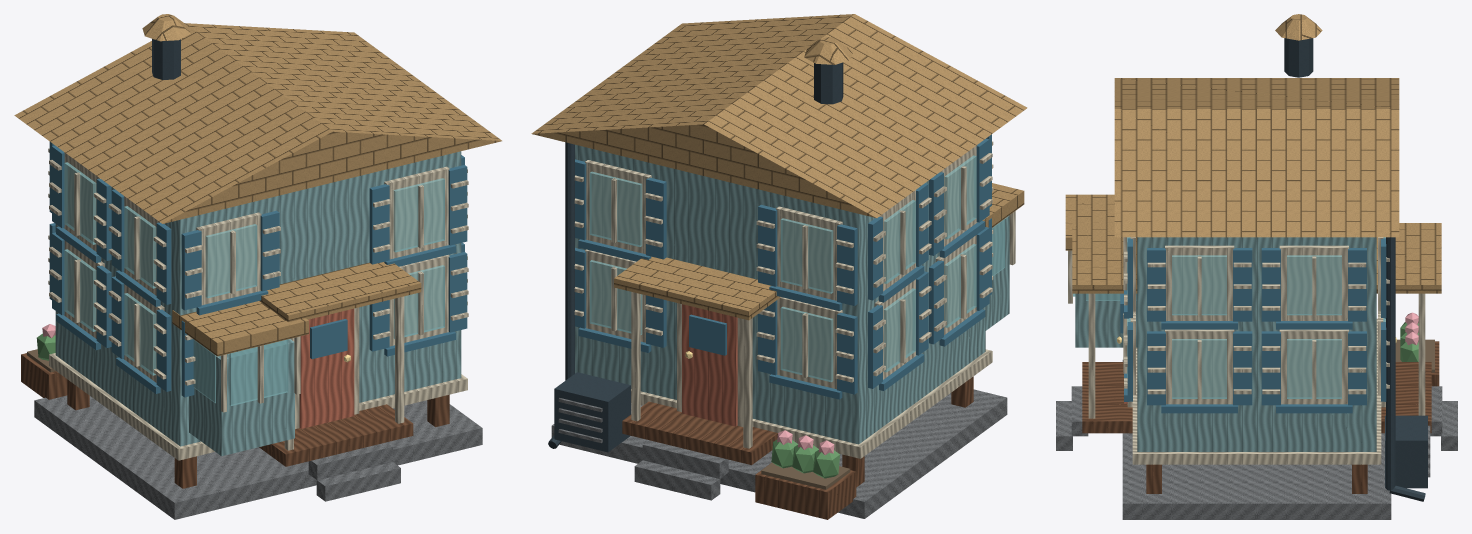
The model's file is house_beach_lv2_bay.glb.
3 renders of one model, left to right at view 1: azimuth 30°, elevation 25°; view 2: azimuth 150°, elevation 25°; view 3: azimuth 270°, elevation 25°, orthographic. The views are drawn at different scales.
Parts seen in each view (by area): view 1: gable_roof, walls, foundation, bay_base, front_porch_canopy, front_door, front_deck, bay_cap, front_window_frame.002, front_window_frame.003, floor_trim, front_window_glass.002 (+41 smaller); view 2: gable_roof, walls, foundation, back_porch_canopy, back_door, back_deck, back_ac_unit, back_window_frame.003, back_window_frame.002, back_window_frame, floor_trim, back_window_glass.002 (+47 smaller); view 3: gable_roof, walls, foundation, right_window_frame, right_window_frame.001, right_window_frame.002, right_window_frame.003, floor_trim, front_porch_canopy, back_porch_canopy, right_window_glass.002, right_window_glass.003 (+34 smaller).
Boxes of the visible parts, x1=… form: gable_roof: x1=14, y1=23, x2=501, y2=223; walls: x1=55, y1=151, x2=461, y2=446; foundation: x1=34, y1=395, x2=482, y2=519; bay_base: x1=189, y1=339, x2=294, y2=456; front_porch_canopy: x1=259, y1=262, x2=421, y2=322; front_door: x1=299, y1=308, x2=354, y2=428; front_deck: x1=259, y1=404, x2=413, y2=466; bay_cap: x1=172, y1=301, x2=308, y2=356; front_window_frame.002: x1=196, y1=212, x2=261, y2=305; front_window_frame.003: x1=384, y1=166, x2=449, y2=259; floor_trim: x1=49, y1=353, x2=467, y2=460; front_window_glass.002: x1=205, y1=224, x2=257, y2=298; gable_roof: x1=531, y1=14, x2=1027, y2=218; walls: x1=575, y1=144, x2=985, y2=444; foundation: x1=551, y1=389, x2=1007, y2=518; back_porch_canopy: x1=614, y1=256, x2=780, y2=320; back_door: x1=682, y1=304, x2=737, y2=426; back_deck: x1=622, y1=401, x2=777, y2=465; back_ac_unit: x1=554, y1=372, x2=630, y2=452; back_window_frame.003: x1=585, y1=160, x2=651, y2=254; back_window_frame.002: x1=776, y1=206, x2=842, y2=300; back_window_frame: x1=777, y1=297, x2=842, y2=389; floor_trim: x1=631, y1=349, x2=992, y2=458; back_window_glass.002: x1=780, y1=218, x2=833, y2=293; gable_roof: x1=1114, y1=78, x2=1399, y2=237; walls: x1=1137, y1=237, x2=1376, y2=451; foundation: x1=1122, y1=360, x2=1391, y2=519; right_window_frame: x1=1165, y1=329, x2=1234, y2=404; right_window_frame.001: x1=1279, y1=329, x2=1348, y2=404; right_window_frame.002: x1=1165, y1=245, x2=1234, y2=320; right_window_frame.003: x1=1279, y1=245, x2=1348, y2=320; floor_trim: x1=1132, y1=318, x2=1381, y2=464; front_porch_canopy: x1=1072, y1=223, x2=1137, y2=293; back_porch_canopy: x1=1376, y1=223, x2=1441, y2=293; right_window_glass.002: x1=1172, y1=255, x2=1226, y2=315; right_window_glass.003: x1=1287, y1=255, x2=1341, y2=315.
Bounding box in the file's own units: 3.15 × 3.67 × 3.36.
Materials: 13 (7 with a texture image).
